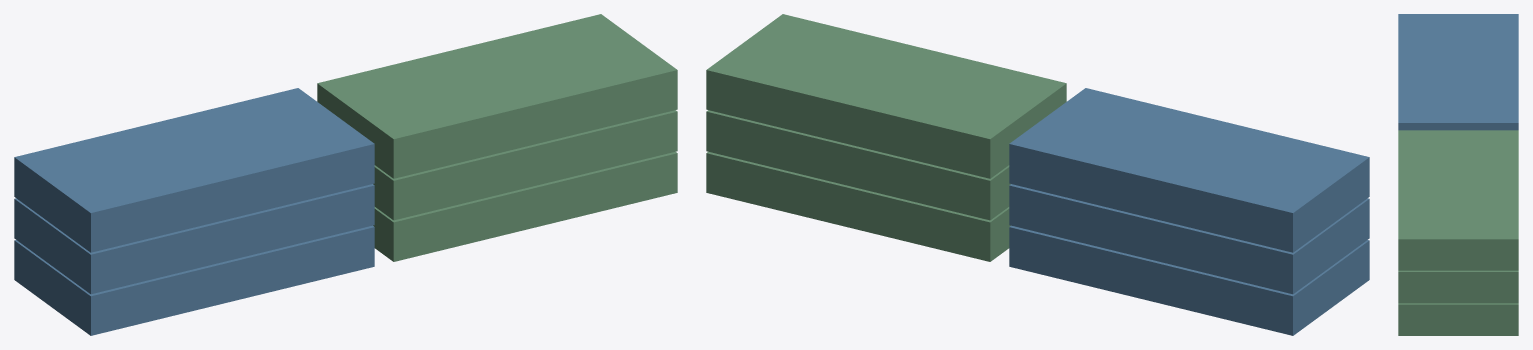
Rendered from dinheiro.glb.
3 renders of one model, left to right at view 1: azimuth 30°, elevation 25°; view 2: azimuth 150°, elevation 25°; view 3: azimuth 270°, elevation 25°, orthographic. The views are drawn at different scales.
Visible parts, largest first — view 1: dinheiro; view 2: dinheiro; view 3: dinheiro.
Part boxes in pixels (x1=…): dinheiro: x1=14, y1=14, x2=677, y2=335; dinheiro: x1=706, y1=14, x2=1369, y2=335; dinheiro: x1=1398, y1=14, x2=1518, y2=335.
Bounding box in the file's own units: 0.31 × 0.062 × 0.07.
